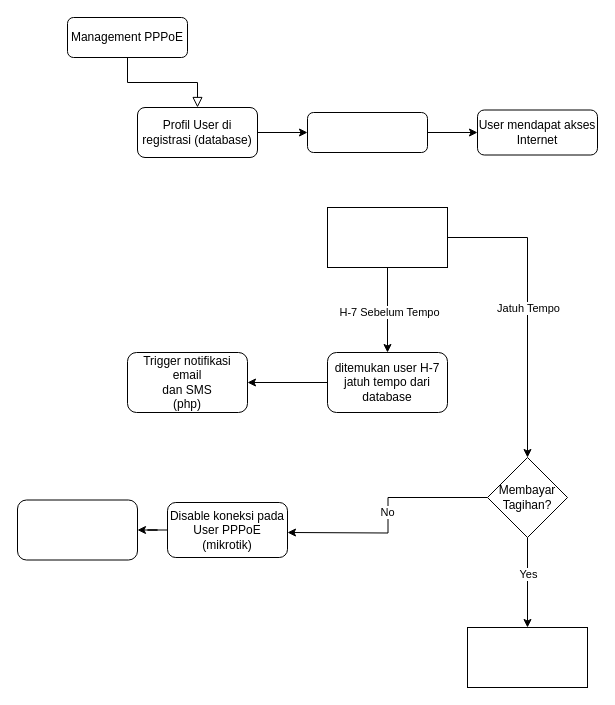
This 615x705 diagram has some shape labels left out. Each missing label, with the box of its shape:
Cronjob melakukan scan setiap hari, untuk user yang jatuh tempo: (326, 206, 448, 268)
Tambah User PPPoE (mikrotik): (306, 112, 428, 152)
Update status, user PPPoE=inactive (php): (16, 499, 138, 560)
User PPPoE tetap aktif: (466, 626, 588, 688)
